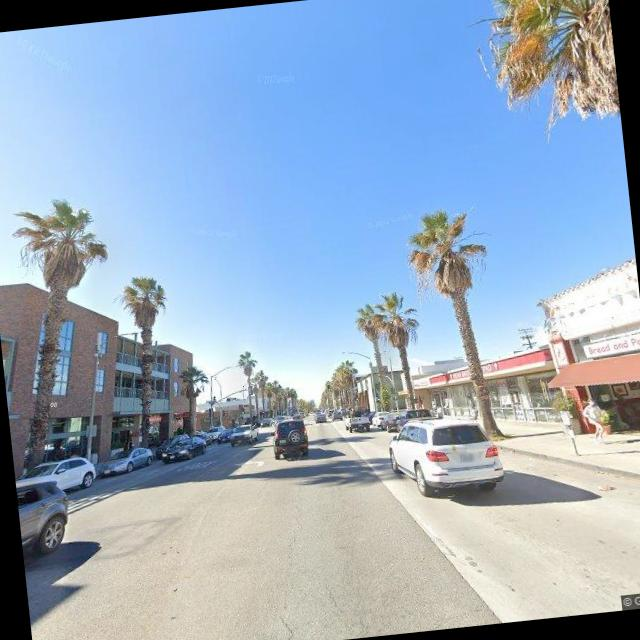crack: (262, 524, 309, 640)
